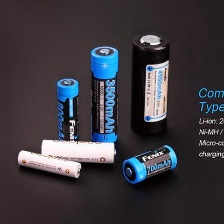battery: (126, 29, 175, 138), (88, 43, 121, 145), (120, 142, 178, 186), (14, 148, 84, 182), (37, 137, 119, 165), (53, 75, 82, 154)
